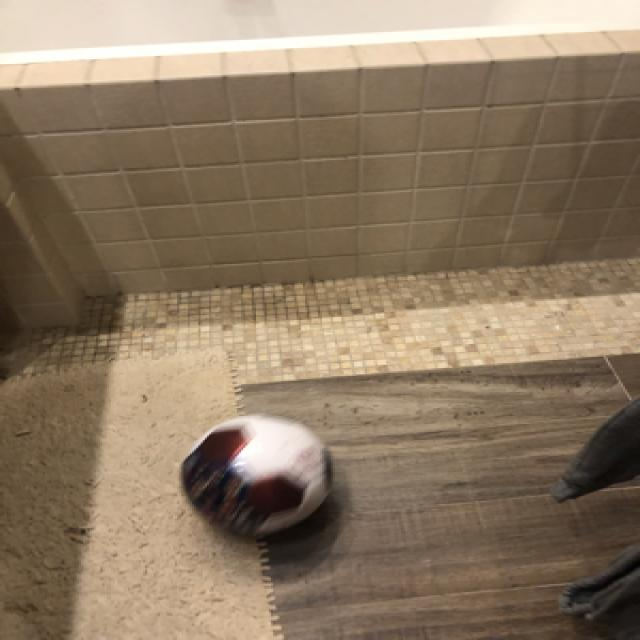soccer_ball: (175, 413, 333, 533)
